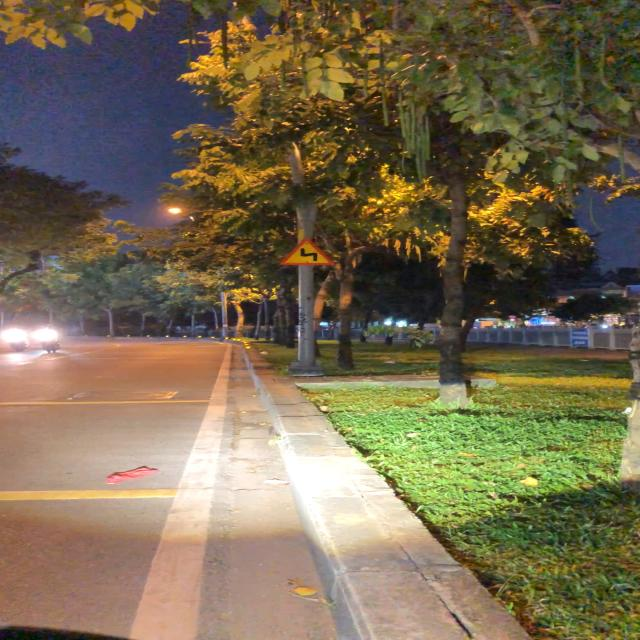Bien bao nhieu cho ngoat nguy hiem lien tiep: (278, 236, 338, 268)
